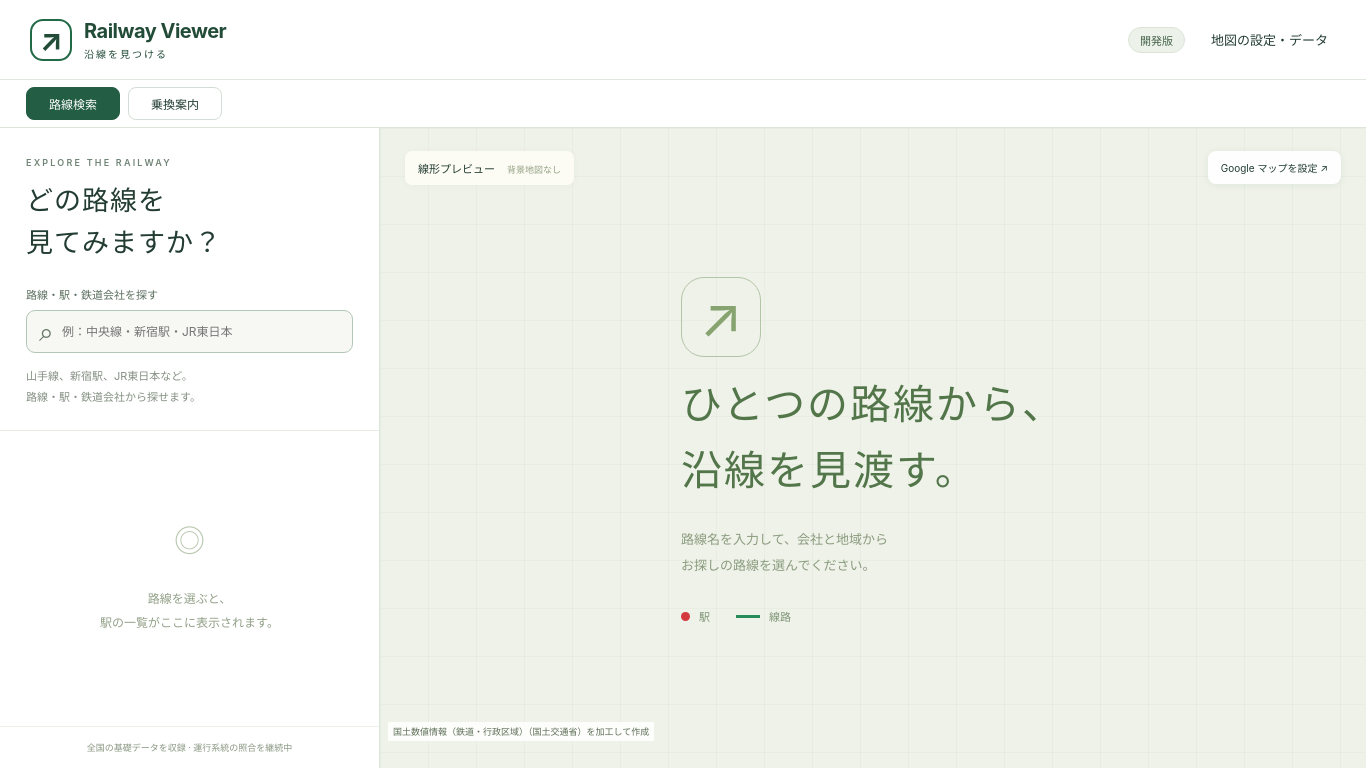
Test: 外部地図への接続設定 › キーを保存しても接続設定がなければプレビューを表示する
Expected: the dropdown is shown, [26,310,353,353]
Expected: the text "線形プレビュー" is shown, [418,162,498,176]
Click the button "地図の設定・データ": click(1270, 40) [1203,25,1336,54]
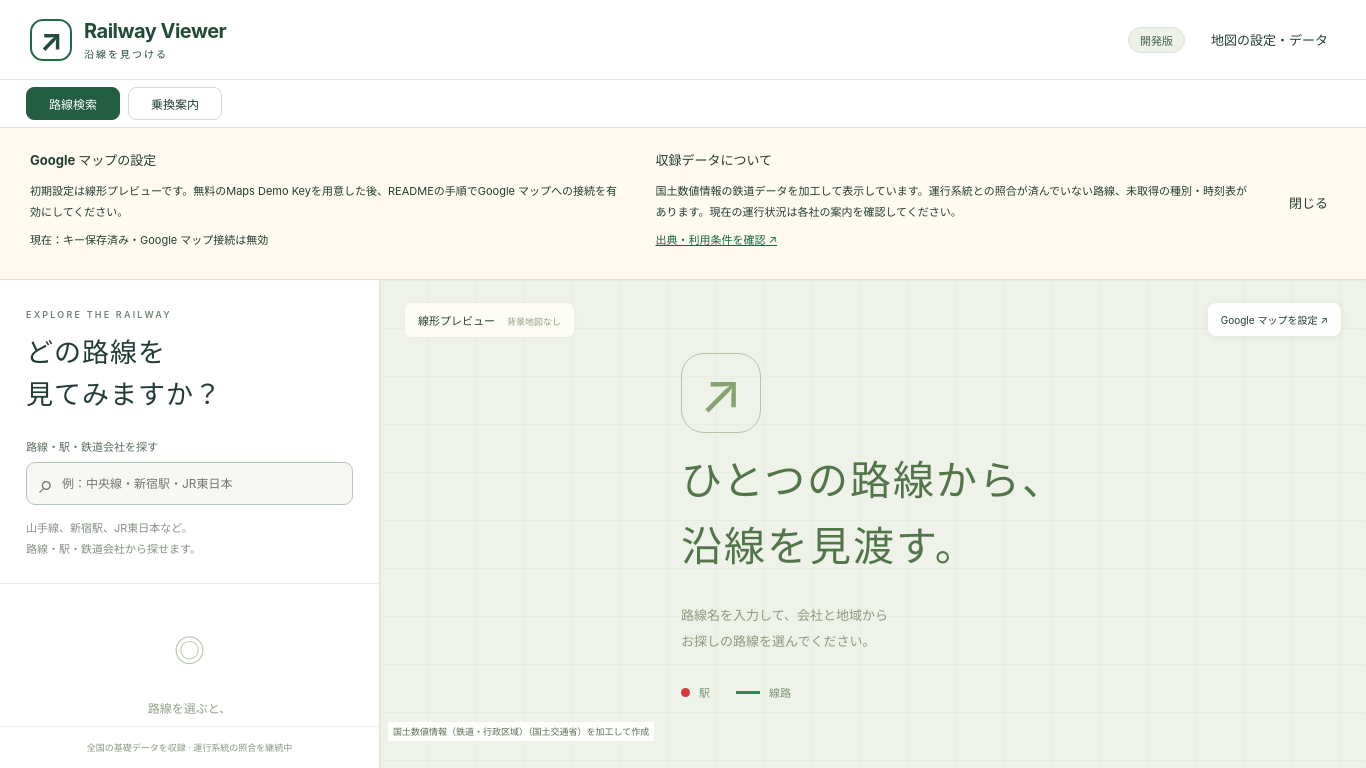
Result: the text "現在：キー保存済み・Google マップ接続は無効" is shown at [30,234,268,248]
